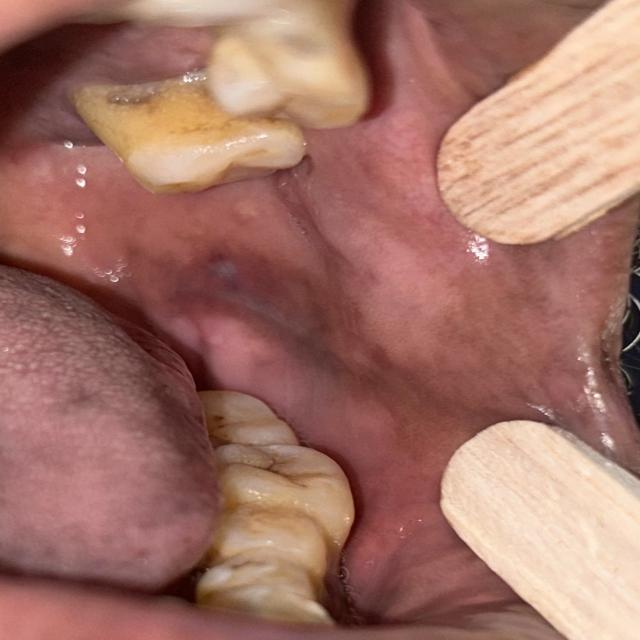leukoplakia-detection: (123, 162, 478, 468)
processing_area: (0, 4, 627, 635)
